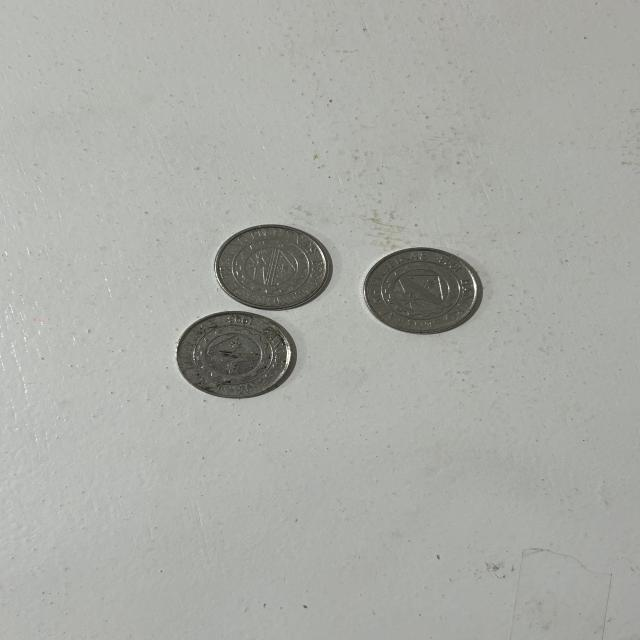1_Old_Back: (222, 233, 320, 299), (187, 324, 273, 391), (377, 257, 465, 322)
